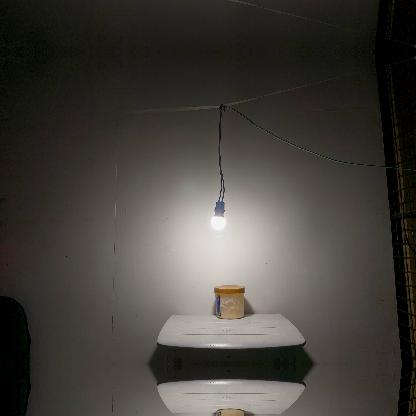Lady-s-Choice: (214, 285, 245, 319)
